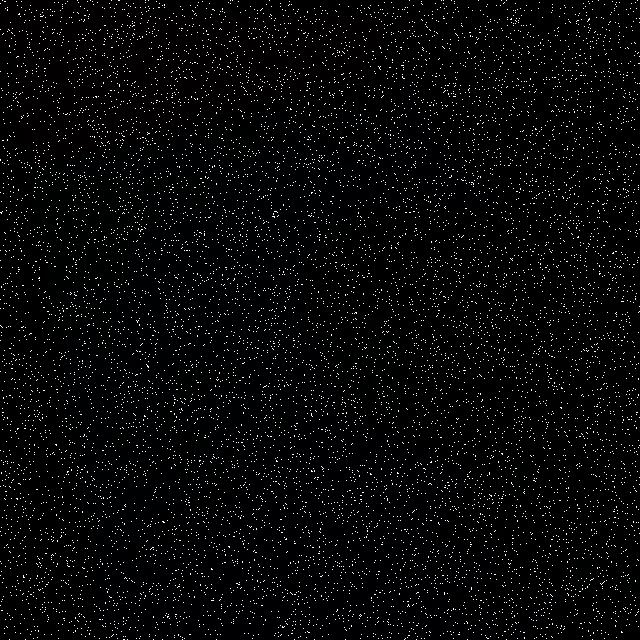adapter: (282, 229, 457, 444)
